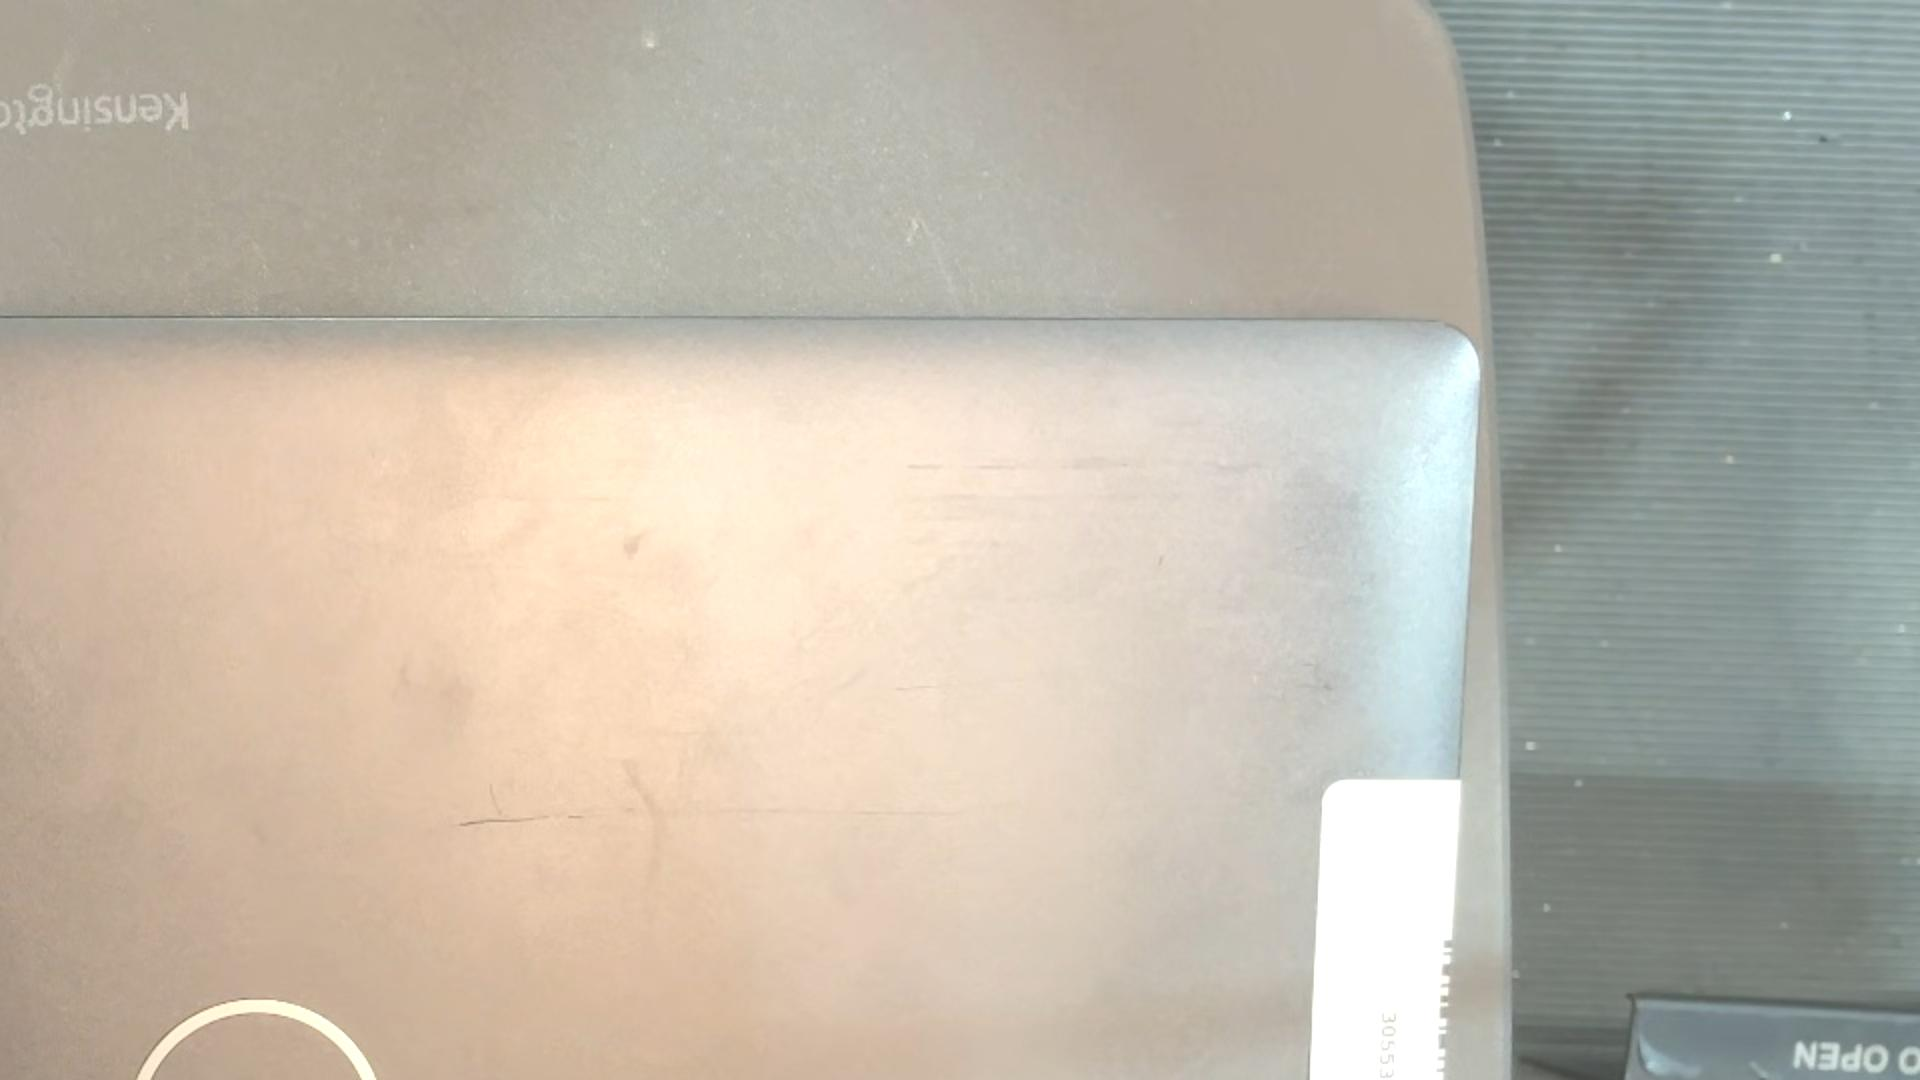scratches: (903, 460, 1133, 472), (709, 808, 961, 817), (455, 814, 596, 827), (487, 782, 506, 817), (893, 684, 938, 692)
